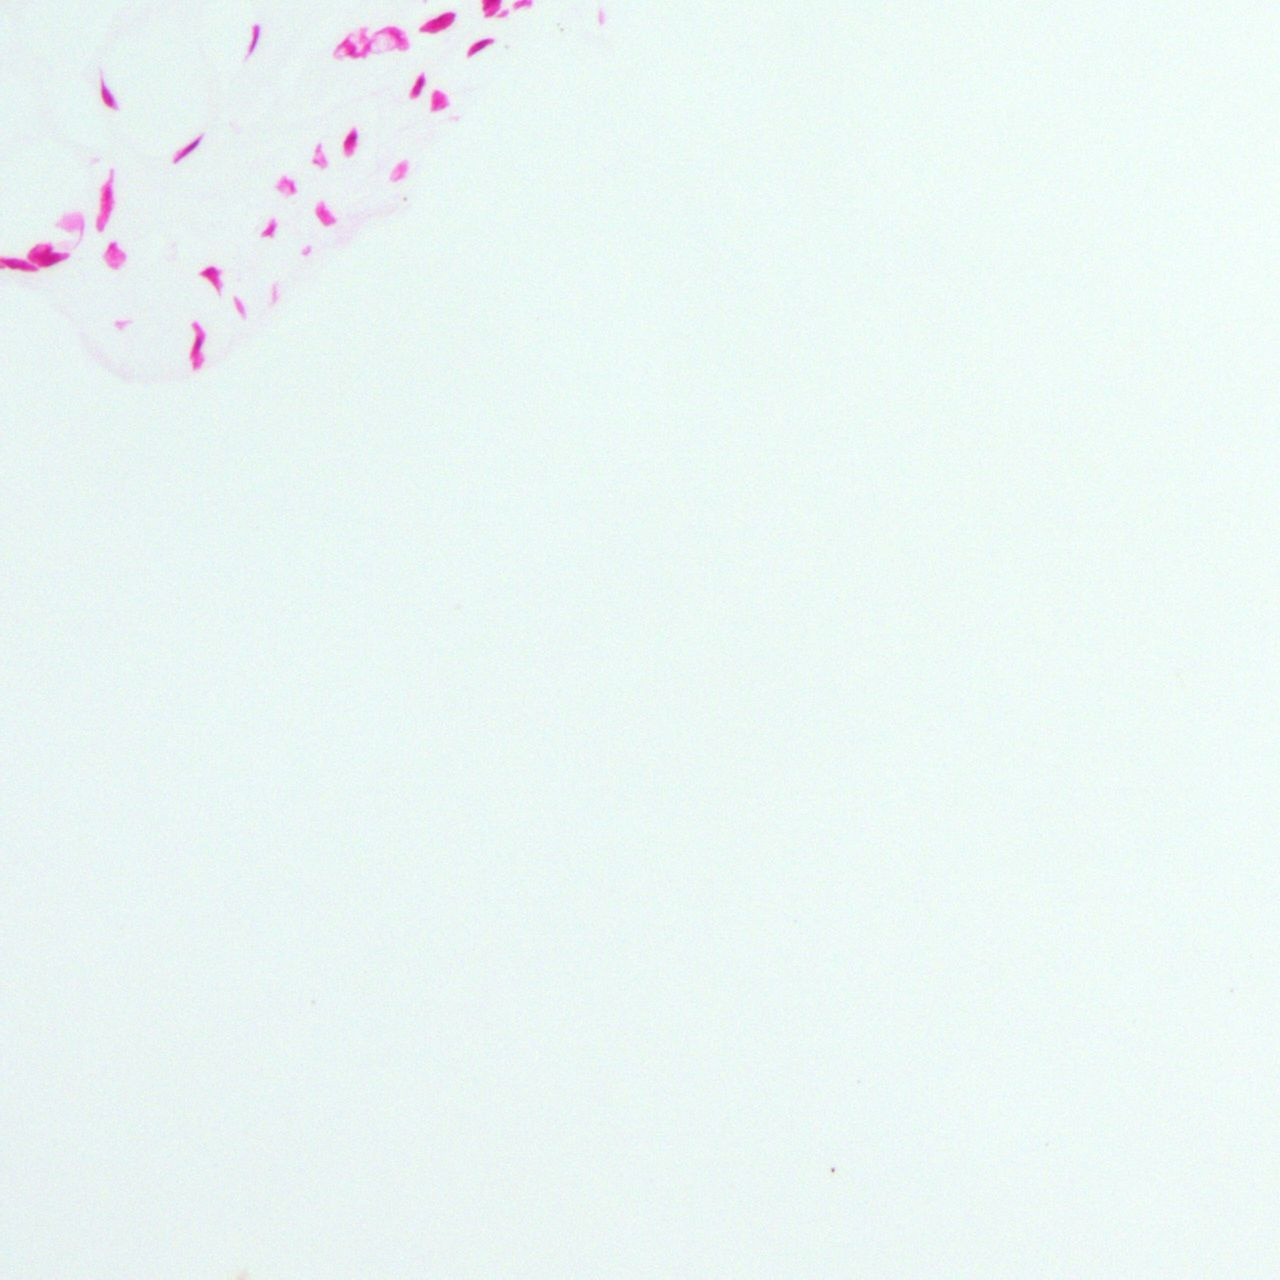dust: (830, 1167, 835, 1172)
nucleus-FG: (168, 130, 207, 165), (416, 7, 458, 40), (459, 32, 496, 60), (406, 70, 431, 101), (189, 318, 204, 369), (245, 23, 260, 57), (342, 125, 358, 156)
